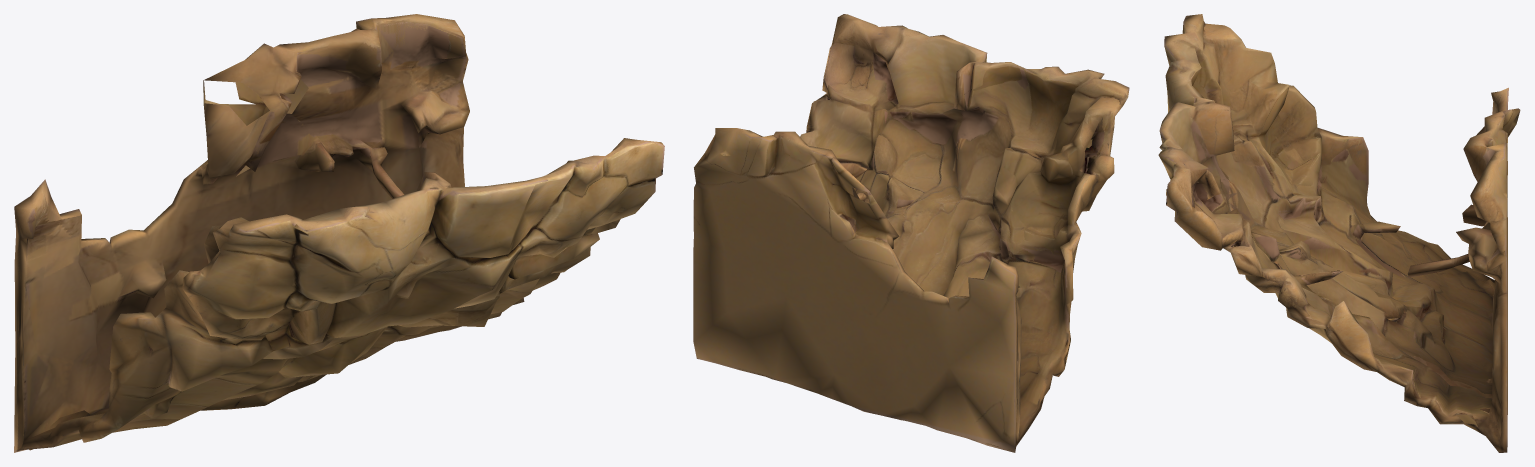
File: techoinclinado.fbx
3 renders of one model, left to right at view 1: azimuth 30°, elevation 25°; view 2: azimuth 150°, elevation 25°; view 3: azimuth 270°, elevation 25°, orthographic. The views are drawn at different scales.
Parts seen in each view (by area): view 1: input; view 2: input; view 3: input.
Part boxes in pixels (left/top/right/bottom): input: left=14, top=14, right=664, bottom=452; input: left=693, top=14, right=1129, bottom=452; input: left=1158, top=14, right=1520, bottom=452.
Bounding box in the file's own units: 201 × 153 × 171.
Materials: 1 (1 with a texture image).
